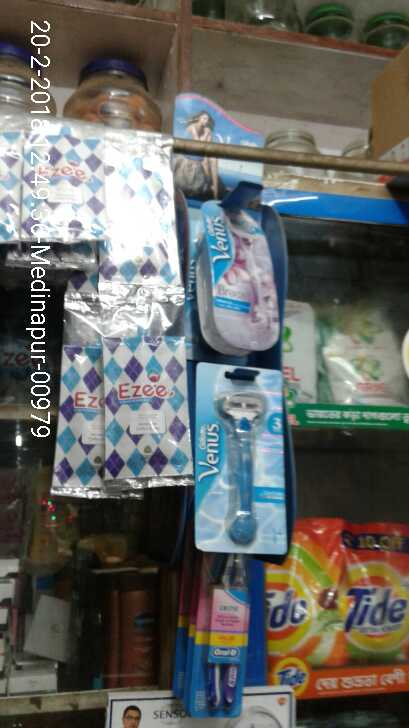beauty: (187, 364, 286, 553), (191, 207, 278, 361)
home: (265, 514, 342, 670), (341, 526, 409, 665), (324, 298, 409, 407)
